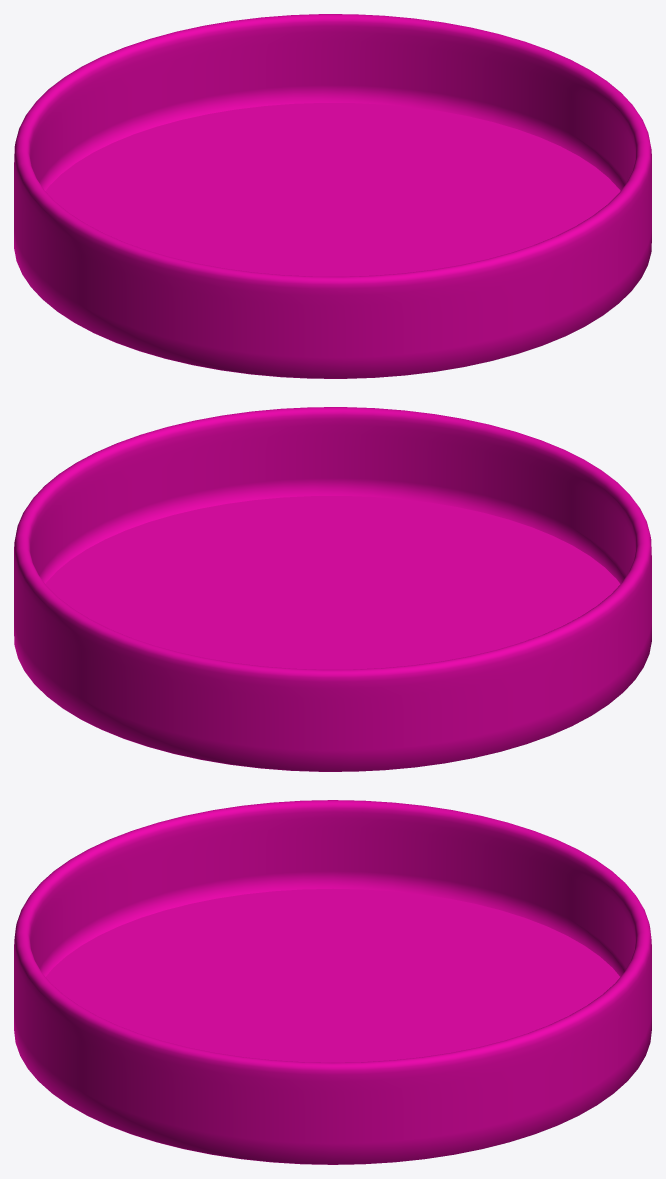
Rendered from Petri Dish.glb.
The picture shows the model from 3 angles, top to bottom: view 1: azimuth 30°, elevation 25°; view 2: azimuth 150°, elevation 25°; view 3: azimuth 270°, elevation 25°; orthographic projection.
Visible parts, largest first — view 1: Petri Dish; view 2: Petri Dish; view 3: Petri Dish.
Part boxes in pixels (left/top/right/bottom): Petri Dish: left=14, top=14, right=651, bottom=378; Petri Dish: left=14, top=407, right=651, bottom=771; Petri Dish: left=14, top=800, right=651, bottom=1164.
Bounding box in the file's own units: 0.1485 × 0.0253 × 0.1485.
